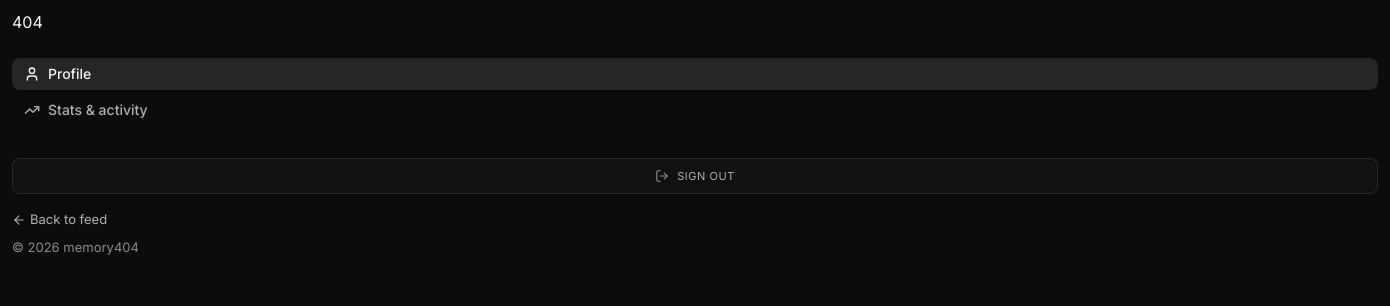
Test: sign out › stays on settings when memory404 cannot be reached
This screenshot has width=1390, height=306.
Click the button "Sign out" at point(695, 176), box [12, 158, 1378, 194]
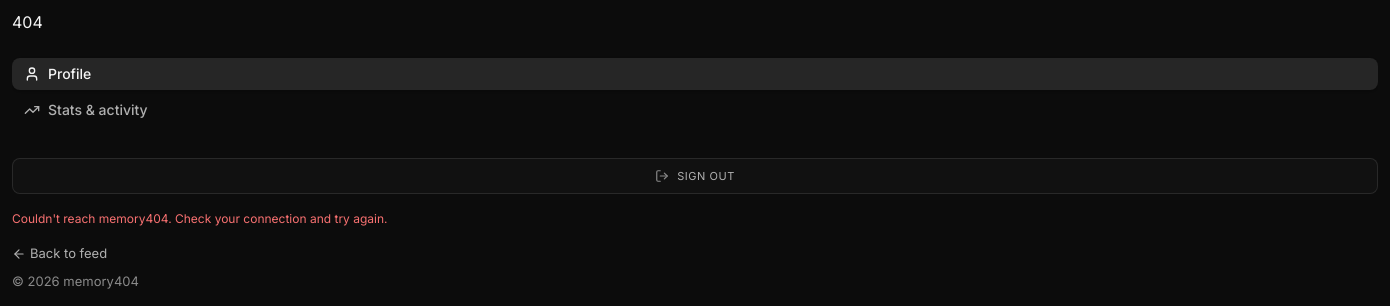
Expected: the message reads "Couldn't reach memory404. Check your connection and try again.", [12, 211, 388, 226]
